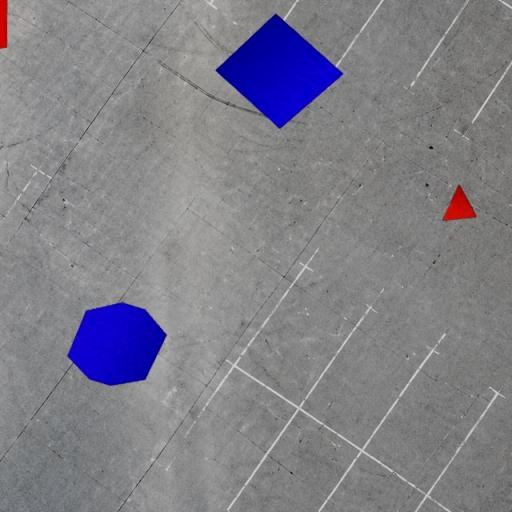BLUE_SQUARE: (215, 12, 344, 130)
